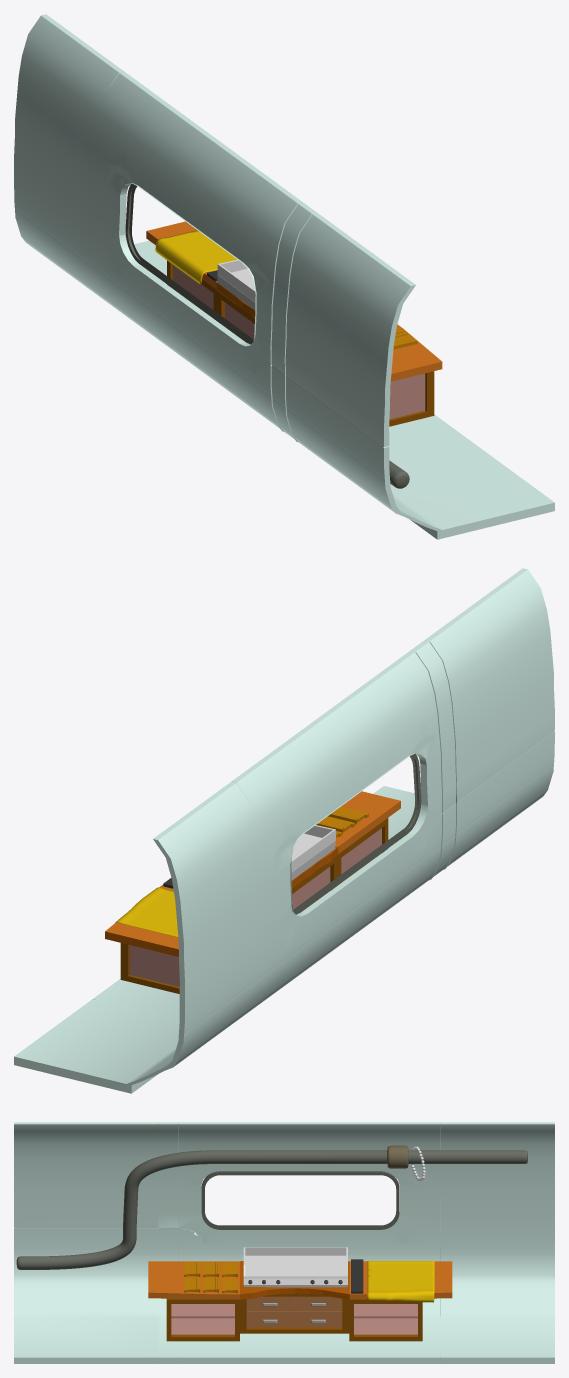
Rendered from SUBMARINO.fbx.
The picture shows the model from 3 angles, top to bottom: view 1: azimuth 30°, elevation 25°; view 2: azimuth 150°, elevation 25°; view 3: azimuth 270°, elevation 25°; orthographic projection. The views are drawn at different scales.
Parts seen in each view (by area): view 1: Submarino.001, Mesa de cocina, Mantel, Plane.001, Parilla; view 2: Submarino.001, Mesa de cocina, Mantel, Plane.001, Parilla, Tablas de la cocina; view 3: Submarino.001, Mesa de cocina, Parilla, Mantel, Plane.001, Tablas de la cocina.
Part boxes in pixels (box(x1,y1,x2,y2)): Submarino.001: box(14, 14, 554, 539); Mesa de cocina: box(146, 221, 442, 426); Mantel: box(155, 230, 236, 284); Plane.001: box(125, 183, 253, 344); Parilla: box(217, 259, 255, 310); Submarino.001: box(14, 568, 554, 1093); Mesa de cocina: box(105, 791, 400, 993); Mantel: box(115, 887, 178, 937); Plane.001: box(293, 753, 421, 914); Parilla: box(291, 825, 335, 880); Tablas de la cocina: box(316, 807, 368, 837); Submarino.001: box(14, 1122, 554, 1363); Mesa de cocina: box(148, 1259, 452, 1341); Parilla: box(243, 1247, 347, 1287); Mantel: box(367, 1261, 434, 1302); Plane.001: box(201, 1171, 399, 1229); Tablas de la cocina: box(184, 1261, 237, 1293).
Bounding box in the file's own units: 1806 × 2604 × 6714.
